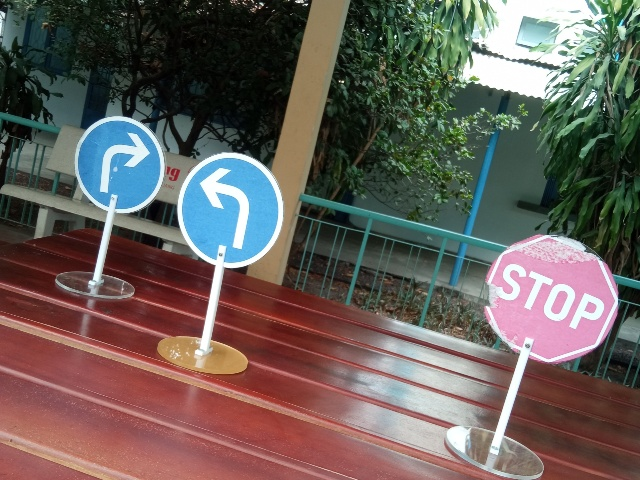Left_Sign: (177, 147, 284, 268)
Right_Sign: (75, 115, 166, 214)
Stop_Sign: (482, 234, 619, 364)
